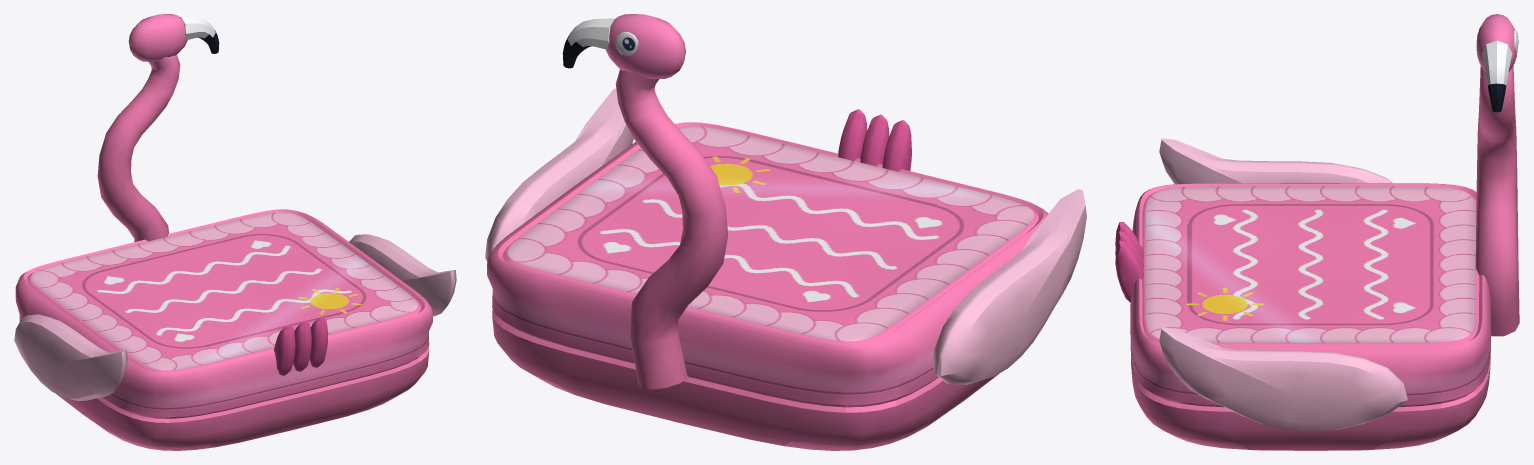
Rendered from pool_flamingo_float.fbx.
3 views of the same model, side by side, from view 1: azimuth 30°, elevation 25°; view 2: azimuth 150°, elevation 25°; view 3: azimuth 270°, elevation 25° (orthographic). The views are drawn at different scales.
Visible parts, largest first — view 1: pool_flamingo_float_LOD0; view 2: pool_flamingo_float_LOD0; view 3: pool_flamingo_float_LOD0.
Boxes of the visible parts, x1,y1,x2,y2 form: pool_flamingo_float_LOD0: [14, 14, 456, 450]; pool_flamingo_float_LOD0: [485, 14, 1086, 450]; pool_flamingo_float_LOD0: [1115, 14, 1519, 450].
Size of the model in its own units: 12.02 by 9.96 by 10.03.
Materials: 1 (1 with a texture image).
